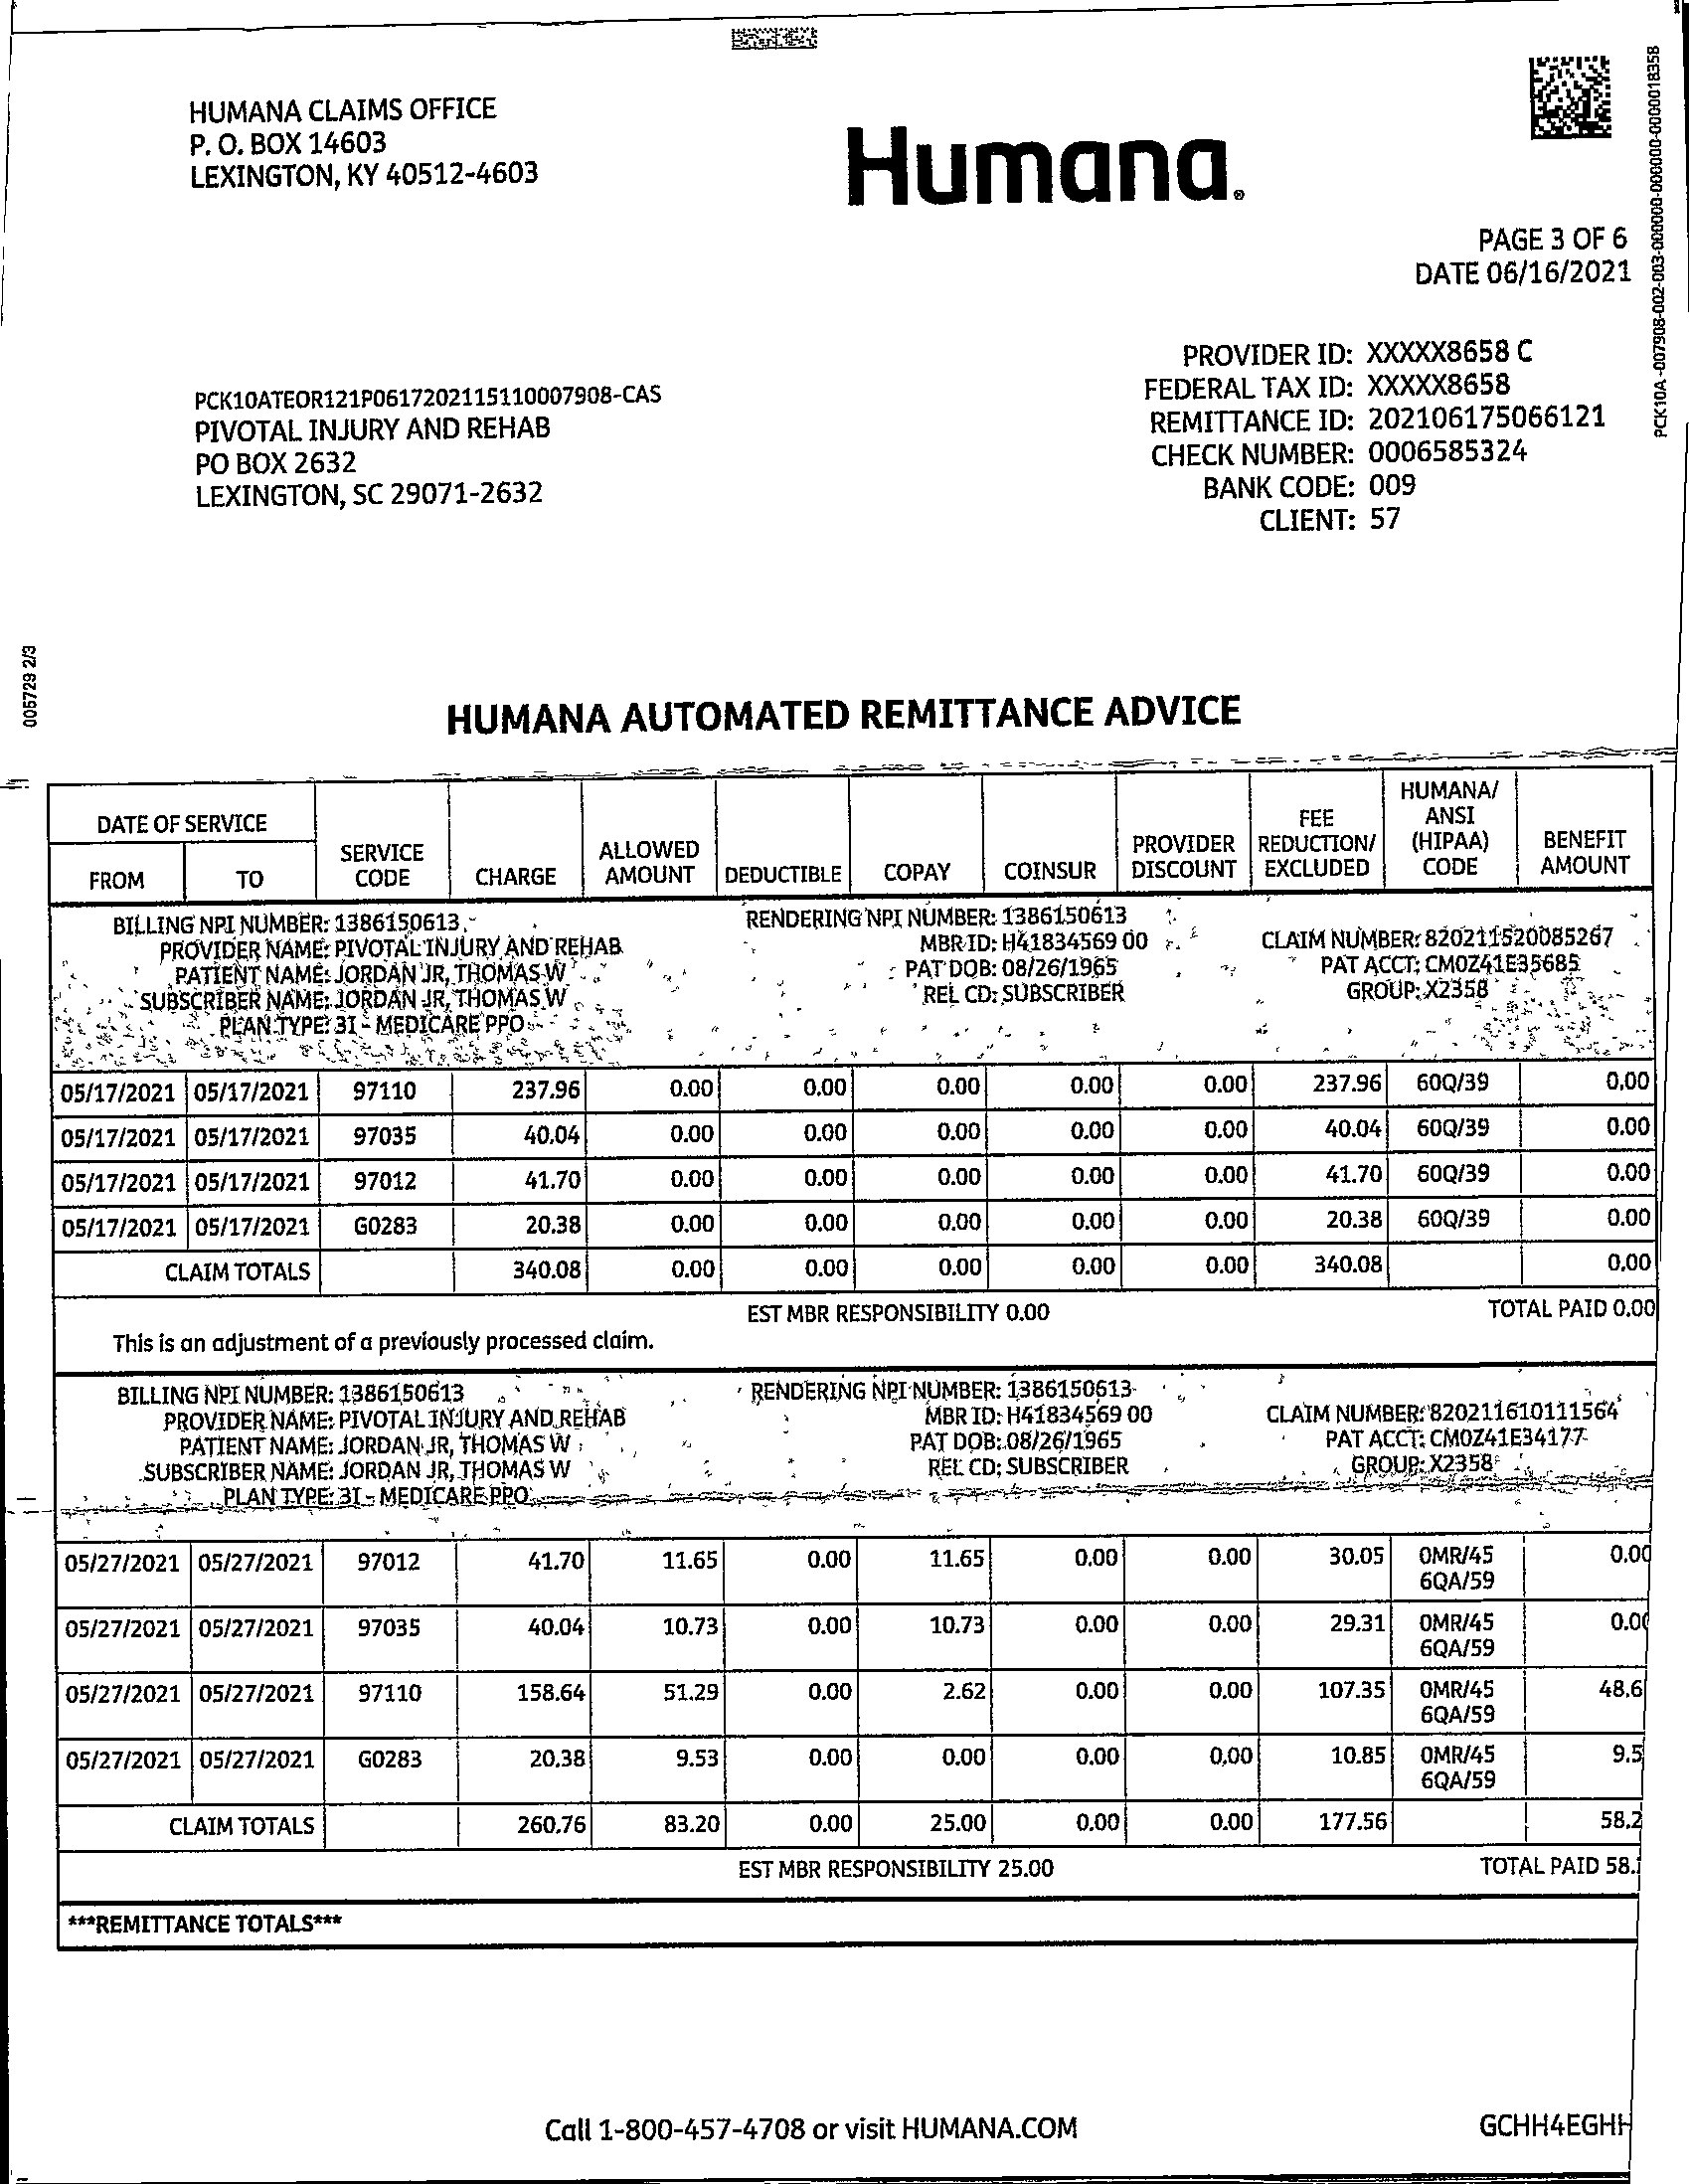data: (1106, 321, 1609, 555), (186, 363, 673, 514), (175, 78, 564, 200)
table: (39, 768, 1652, 1978)
